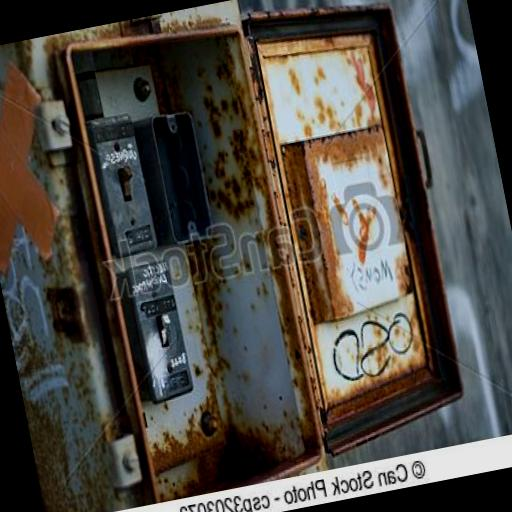corrosion: (283, 130, 390, 274), (318, 344, 441, 453), (281, 141, 335, 322), (206, 427, 279, 498), (23, 394, 56, 512), (48, 287, 82, 338), (230, 130, 251, 178), (327, 273, 346, 314), (248, 53, 264, 101), (210, 114, 222, 135)
